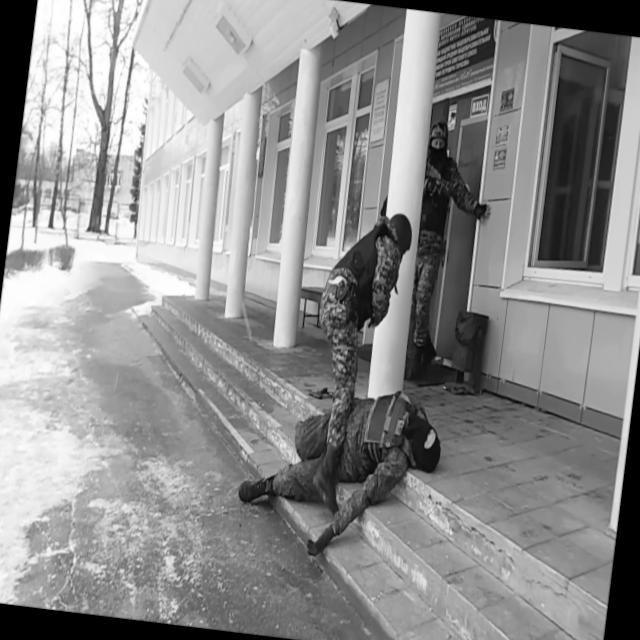gun: (421, 156, 454, 200), (342, 277, 362, 325)
person: (231, 369, 449, 571)
person with a gun: (294, 203, 416, 519), (400, 120, 502, 376)
